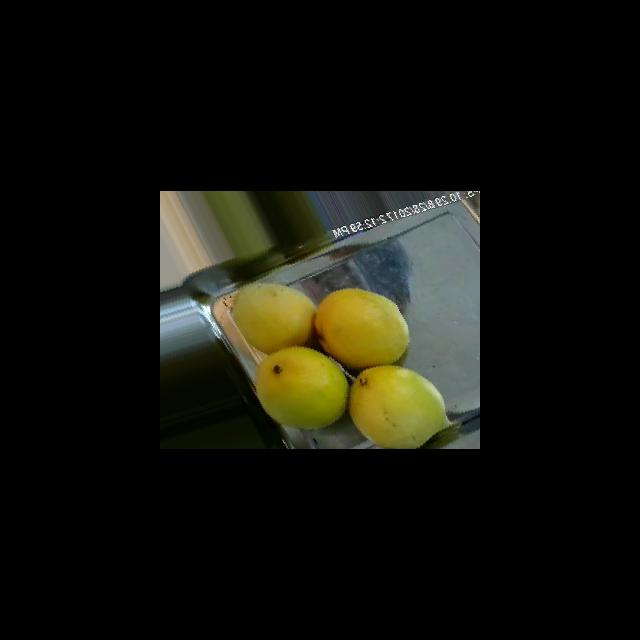mango: (348, 364, 449, 448), (255, 345, 348, 430), (314, 287, 409, 369), (232, 282, 316, 354)
